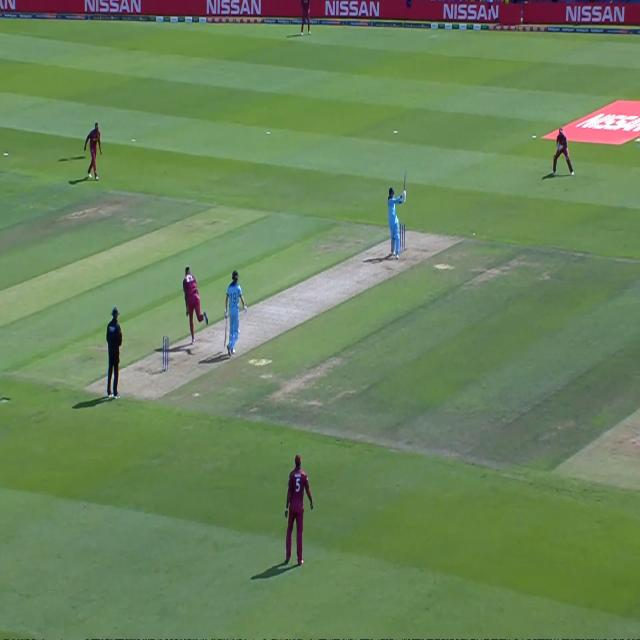ball: (470, 229, 481, 243)
